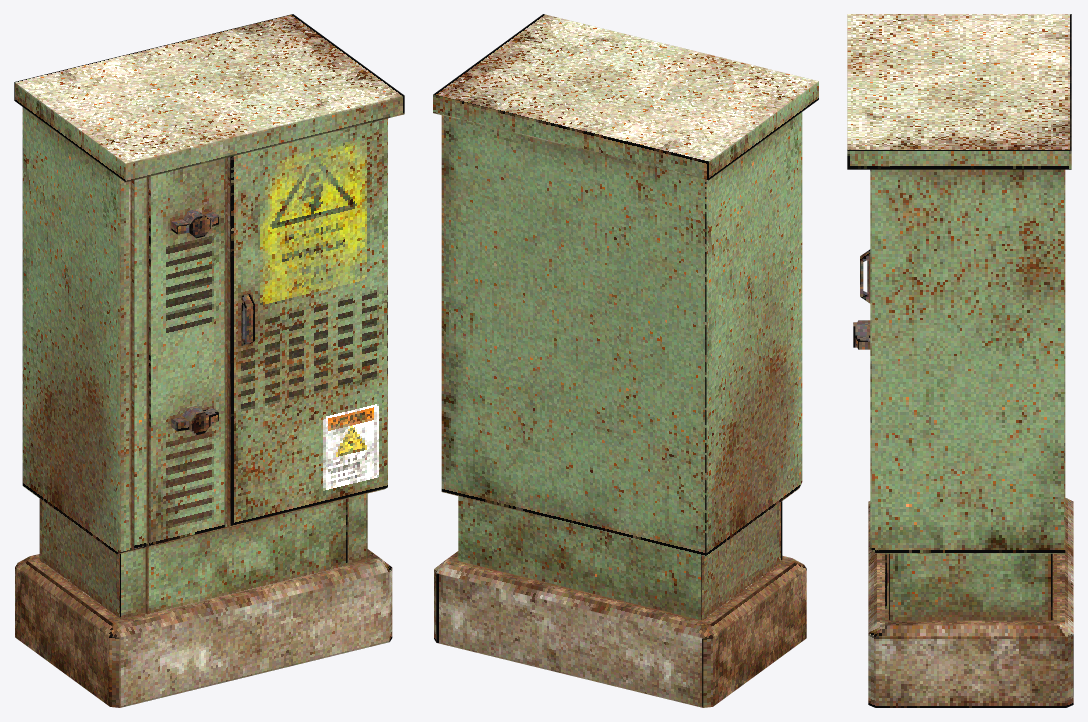
File: Roadside_Junction_Box_003.glb
3 renders of one model, left to right at view 1: azimuth 30°, elevation 25°; view 2: azimuth 150°, elevation 25°; view 3: azimuth 270°, elevation 25°, orthographic.
Visible parts, largest first — view 1: Roadside_Junction_Box_003; view 2: Roadside_Junction_Box_003; view 3: Roadside_Junction_Box_003.
Boxes of the visible parts, x1,y1,x2,y2 form: Roadside_Junction_Box_003: [14, 14, 404, 707]; Roadside_Junction_Box_003: [433, 14, 818, 707]; Roadside_Junction_Box_003: [847, 14, 1073, 707].
Size of the model in its own units: 1.58 by 2.95 by 1.09.
1 material, 1 textured.
